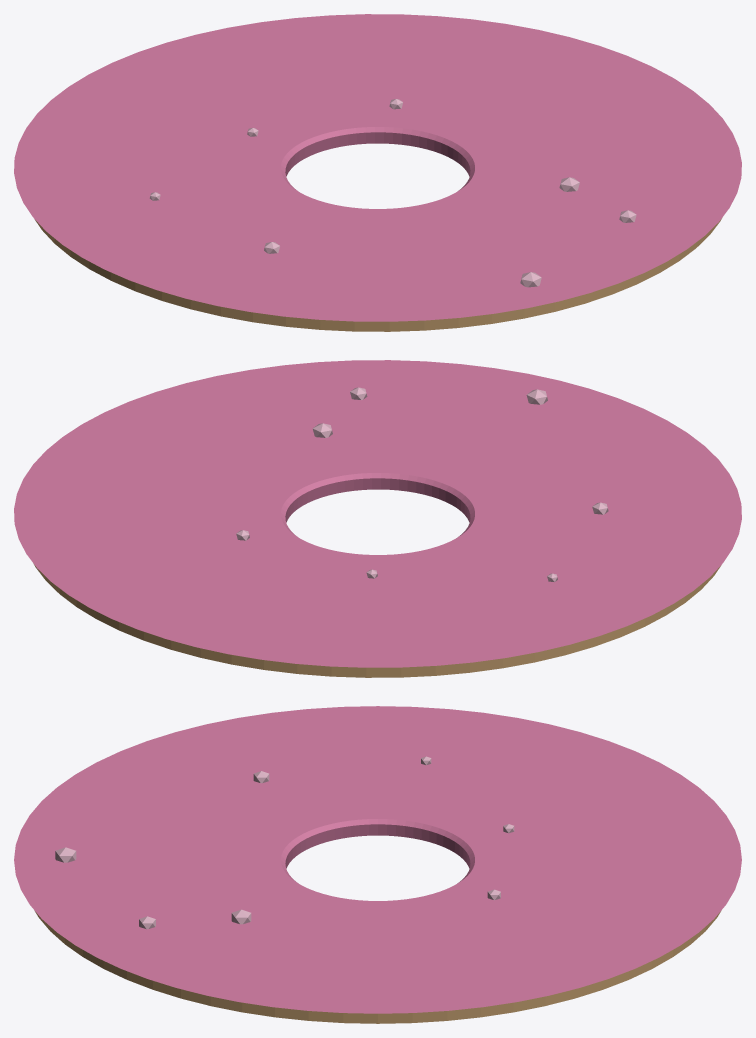
The model's file is goo_jar_deck_3@candy.fbx.
3 views of the same model, one above another, from view 1: azimuth 30°, elevation 25°; view 2: azimuth 150°, elevation 25°; view 3: azimuth 270°, elevation 25° (orthographic).
Parts seen in each view (by area): view 1: goo_jar_deck_3; view 2: goo_jar_deck_3; view 3: goo_jar_deck_3.
Part boxes in pixels (x1,y1,x2,y2): goo_jar_deck_3: (14, 14, 741, 331); goo_jar_deck_3: (14, 360, 741, 677); goo_jar_deck_3: (14, 706, 741, 1023).
Bounding box in the file's own units: 47.2 × 1.84 × 47.2.
